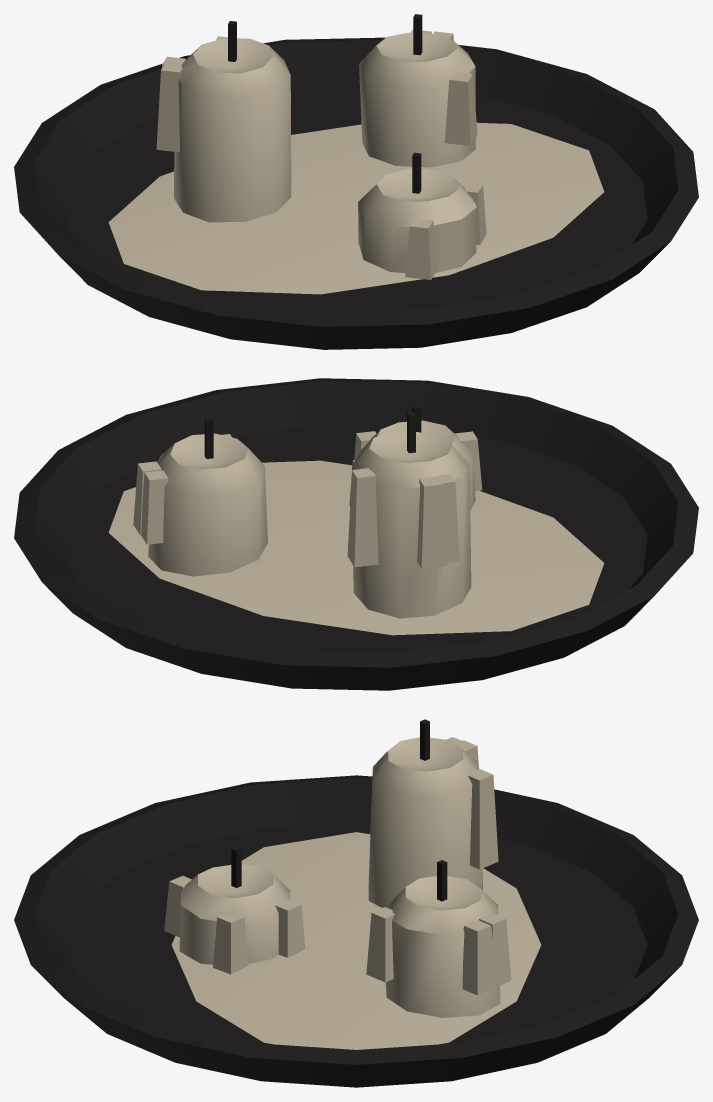
The model's file is kerzen_kaputt.glb.
3 views of the same model, one above another, from view 1: azimuth 30°, elevation 25°; view 2: azimuth 150°, elevation 25°; view 3: azimuth 270°, elevation 25° (orthographic).
Visible parts, largest first — view 1: kerzen_kaputt; view 2: kerzen_kaputt; view 3: kerzen_kaputt.
Part boxes in pixels (x1,y1,x2,y2): kerzen_kaputt: (14, 14, 698, 349); kerzen_kaputt: (14, 378, 698, 690); kerzen_kaputt: (14, 719, 698, 1087).
Size of the model in its own units: 0.2 by 0.062 by 0.2.
